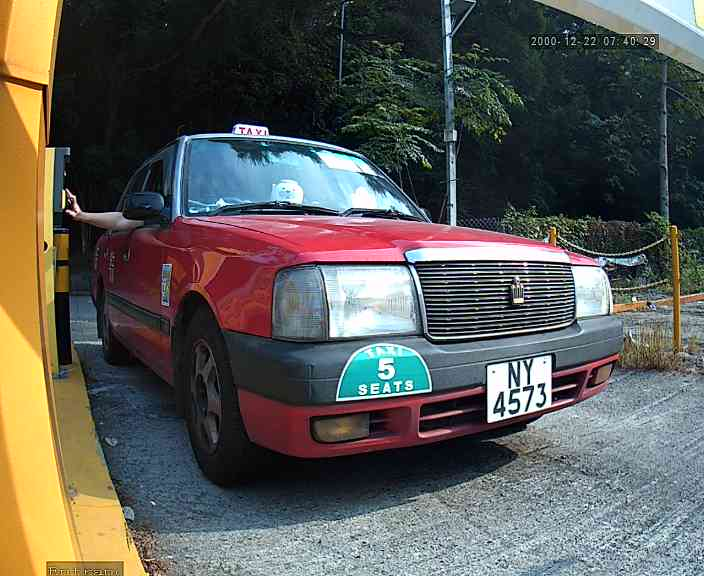taxi: (73, 70, 630, 495)
taxi_mark: (326, 334, 441, 410)
